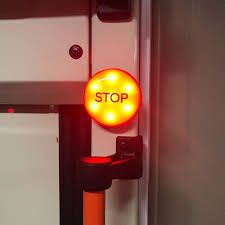bell: (79, 65, 146, 130)
